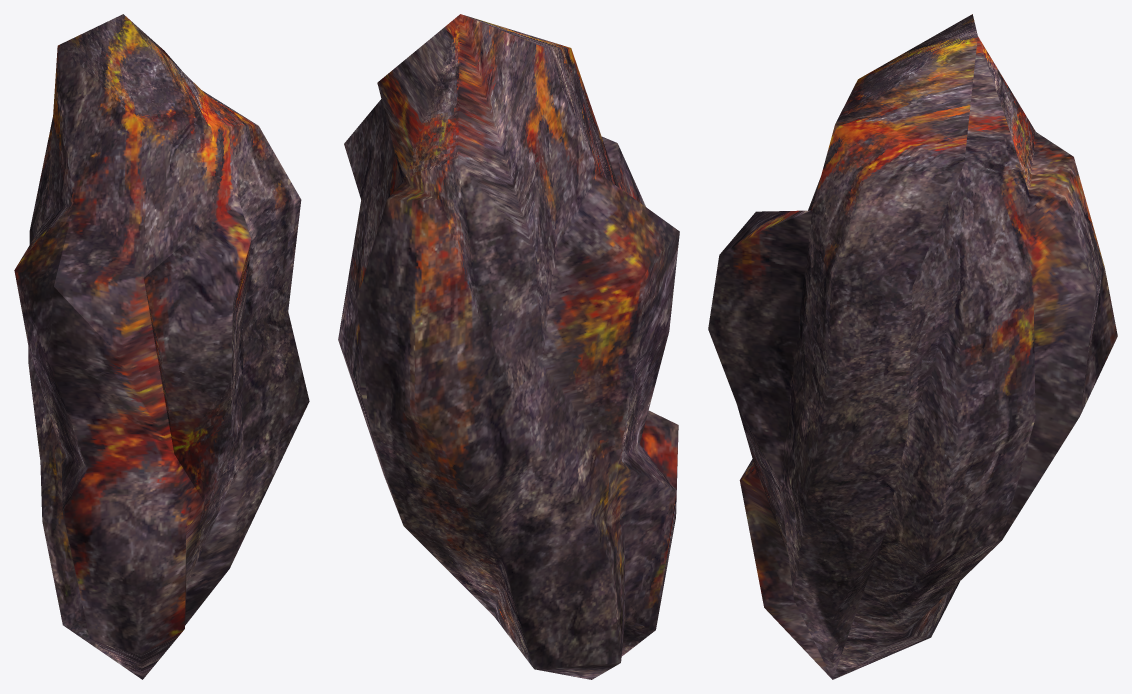
File: stone03.fbx
3 views of the same model, side by side, from view 1: azimuth 30°, elevation 25°; view 2: azimuth 150°, elevation 25°; view 3: azimuth 270°, elevation 25° (orthographic). The views are drawn at different scales.
Parts seen in each view (by area): view 1: stone03; view 2: stone03; view 3: stone03.
Boxes of the visible parts, box(x1,y1,x2,y2) form: stone03: box(14, 14, 309, 679); stone03: box(338, 14, 679, 679); stone03: box(708, 14, 1117, 679).
Size of the model in its own units: 6.8 by 15 by 8.33.
